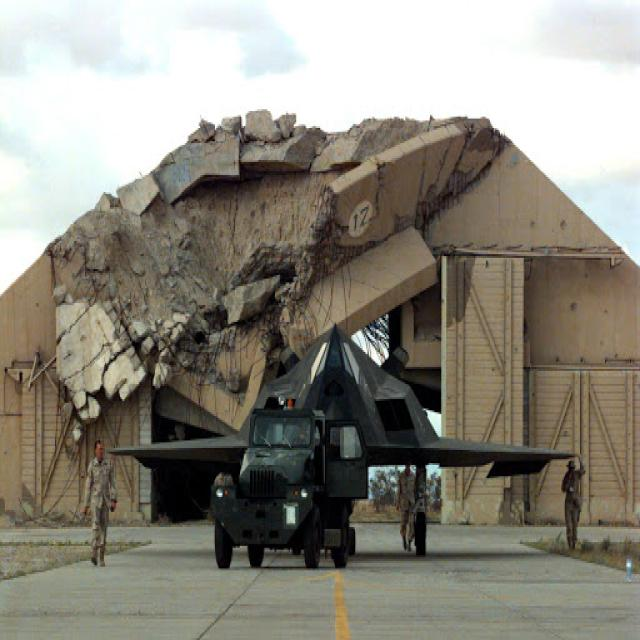MIL_Plane: (107, 320, 578, 555)
